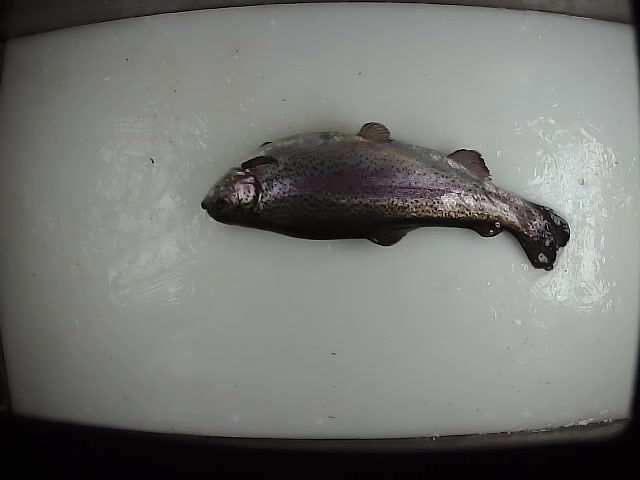fish: (199, 121, 572, 273)
